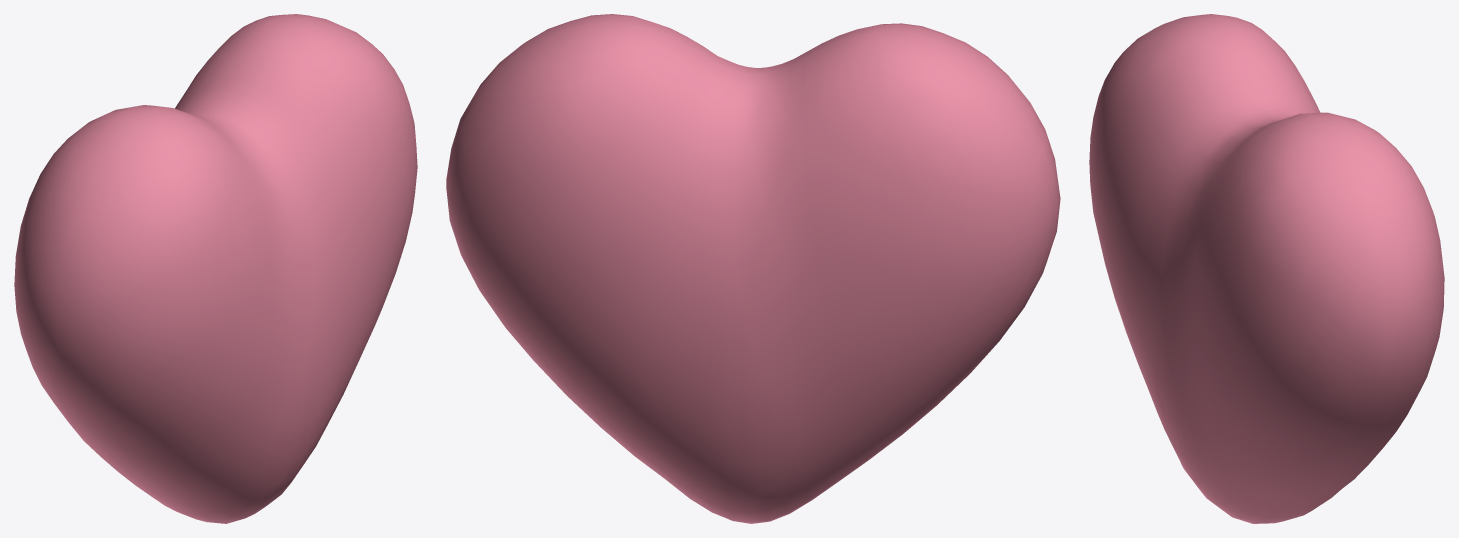
Rendered from heart_ts01.gltf.
The picture shows the model from 3 angles, left to right: view 1: azimuth 30°, elevation 25°; view 2: azimuth 150°, elevation 25°; view 3: azimuth 270°, elevation 25°; orthographic projection. The views are drawn at different scales.
Visible parts, largest first — view 1: heart_ts01; view 2: heart_ts01; view 3: heart_ts01.
Boxes of the visible parts, x1=… form: heart_ts01: x1=14, y1=14, x2=417, y2=523; heart_ts01: x1=446, y1=14, x2=1060, y2=523; heart_ts01: x1=1089, y1=14, x2=1444, y2=523.
Size of the model in its own units: 11.49 by 10.79 by 7.81.
